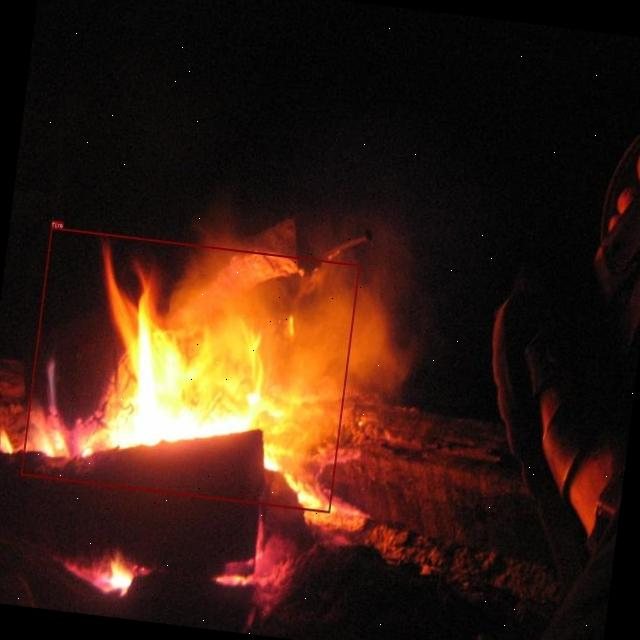fire: (20, 227, 359, 512)
